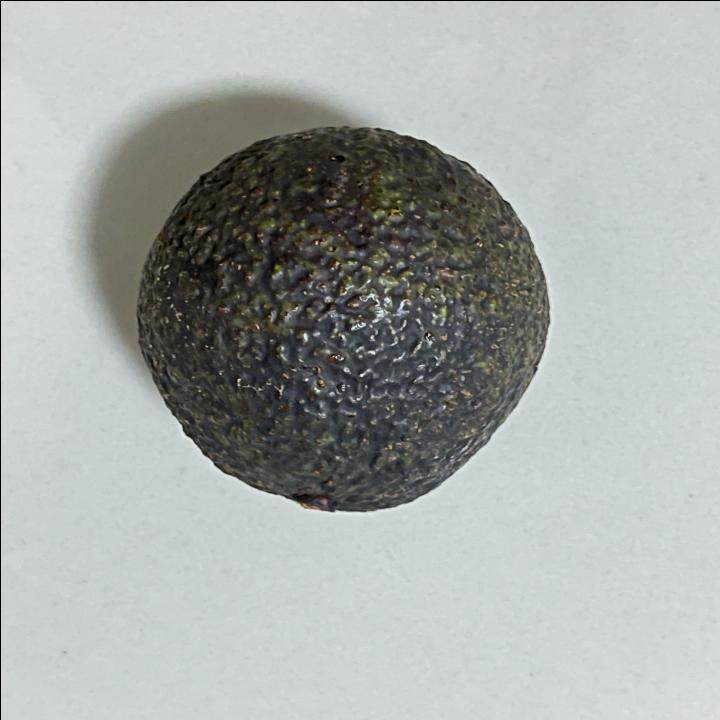Level2: (126, 122, 558, 526)
